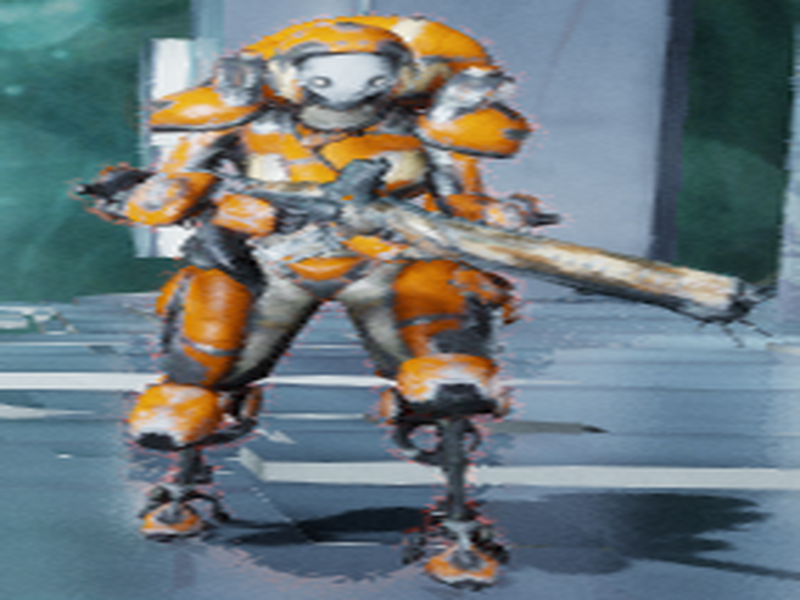grineer: (64, 11, 775, 596)
